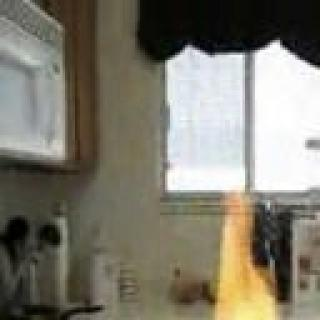fire: (129, 206, 279, 320)
